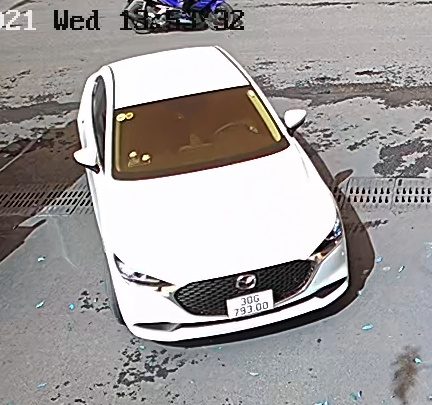vehicle plate: (217, 286, 277, 321)
